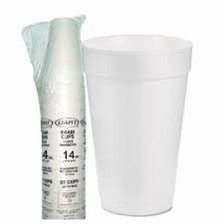paper_cup: (78, 28, 197, 220), (32, 10, 90, 224)
